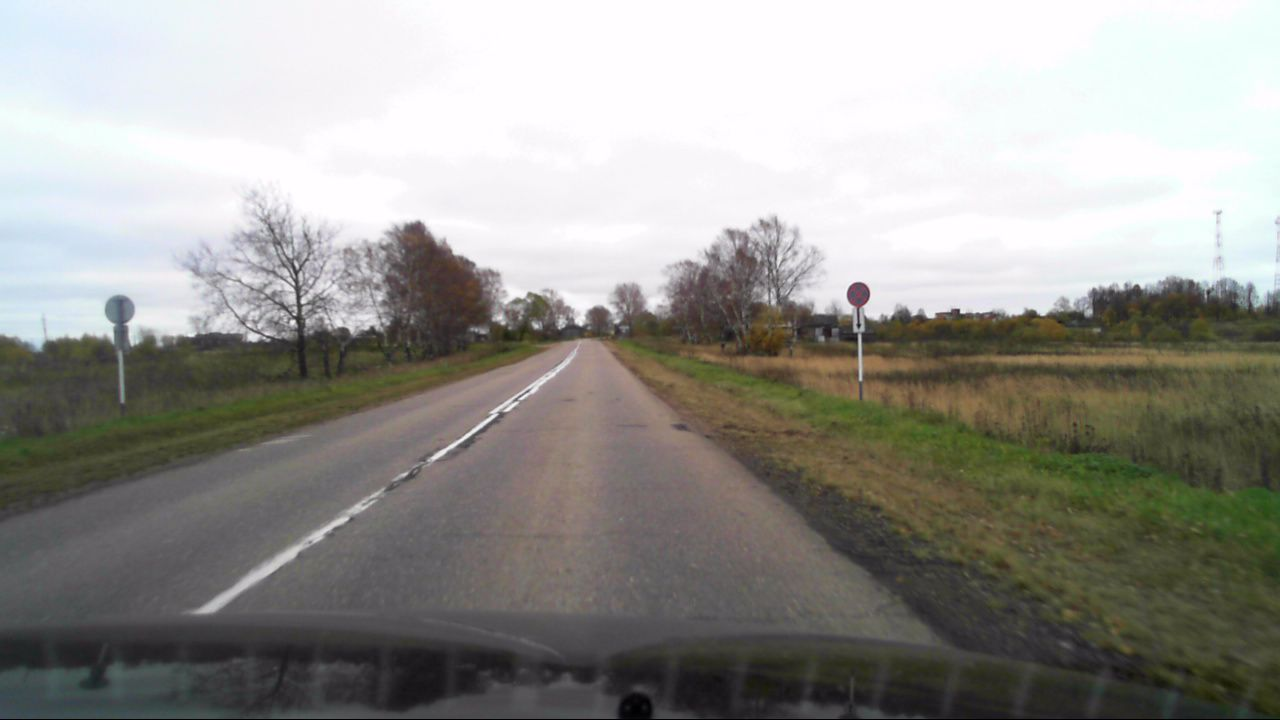No Parking: (846, 282, 870, 306)
